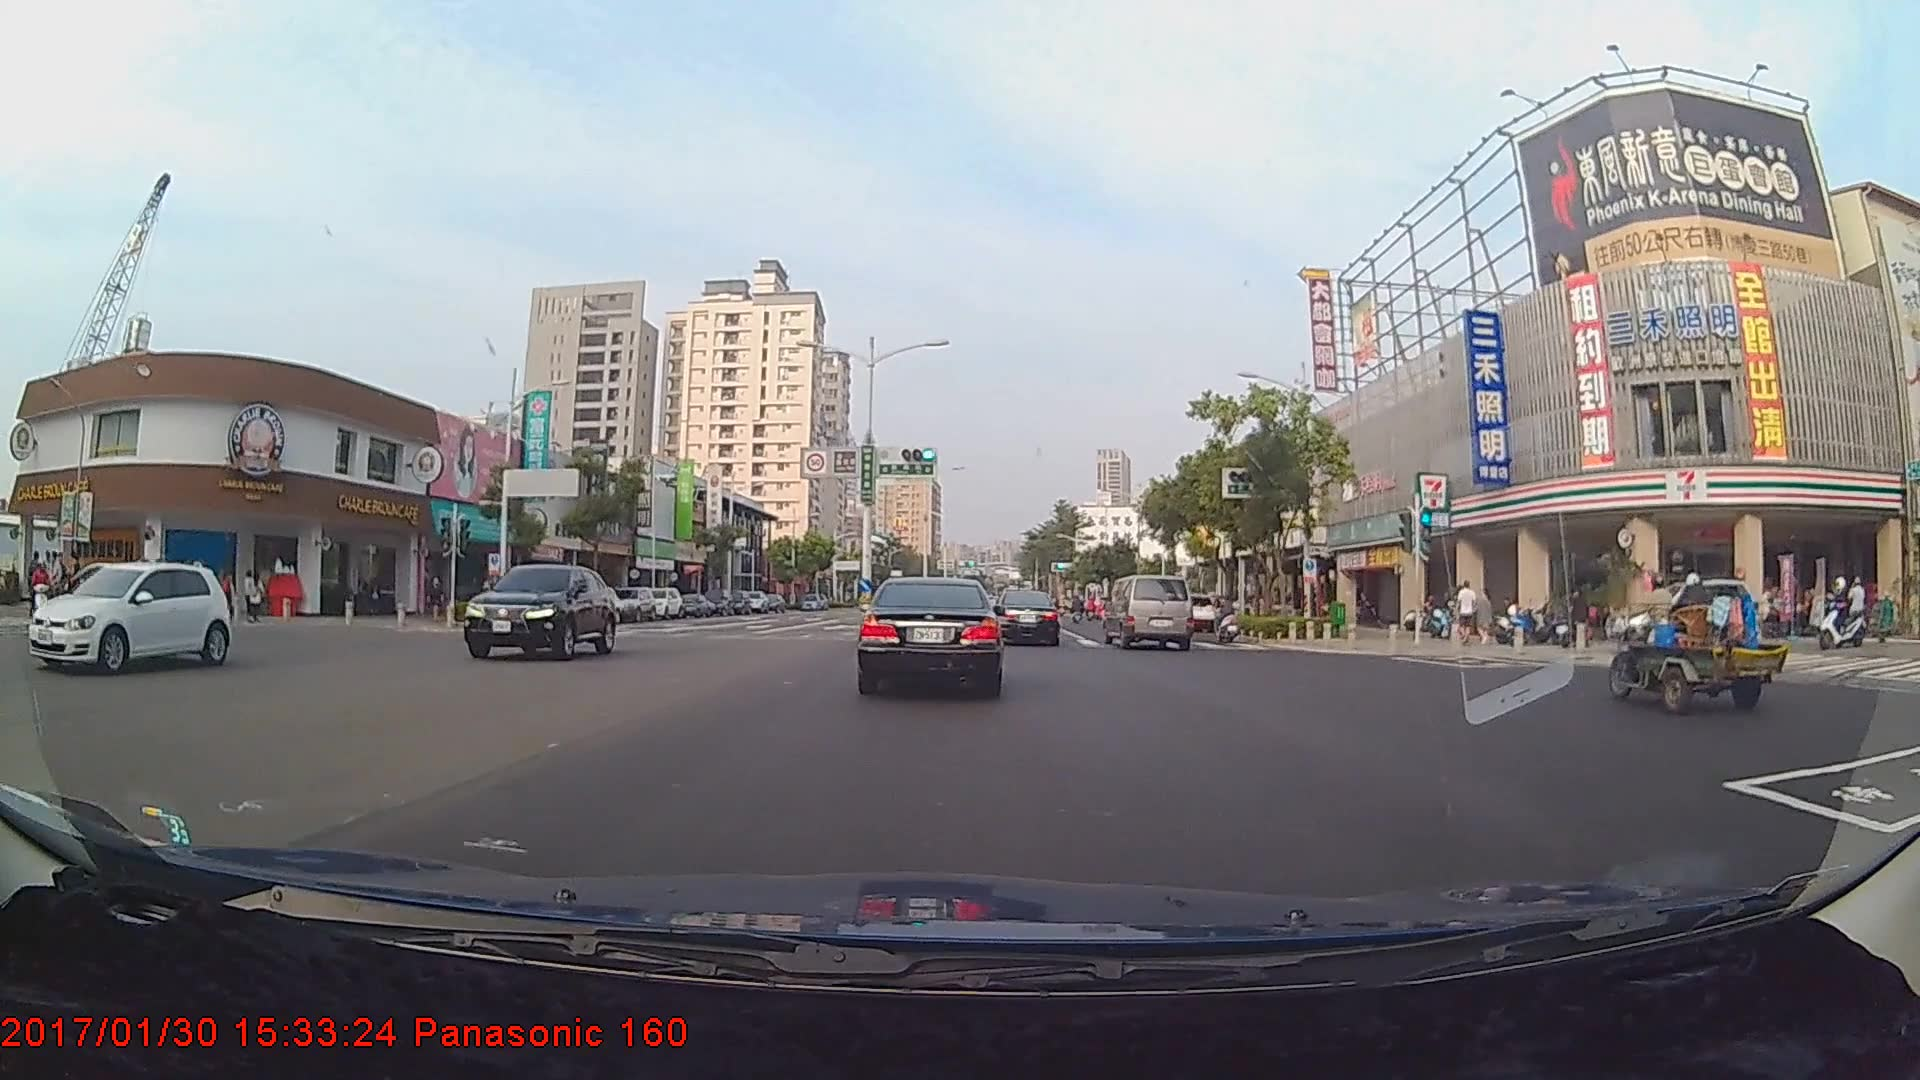pedestrian: (1455, 581, 1480, 647), (1474, 588, 1496, 648), (427, 573, 447, 622)
rider: (1808, 576, 1876, 656), (25, 554, 65, 628), (1214, 591, 1250, 649)
vehicle: (62, 556, 227, 668), (859, 572, 1004, 696), (466, 560, 617, 661), (1605, 576, 1751, 644), (1106, 574, 1192, 651), (992, 589, 1061, 647), (609, 583, 658, 621), (639, 586, 684, 619), (670, 591, 712, 619)
